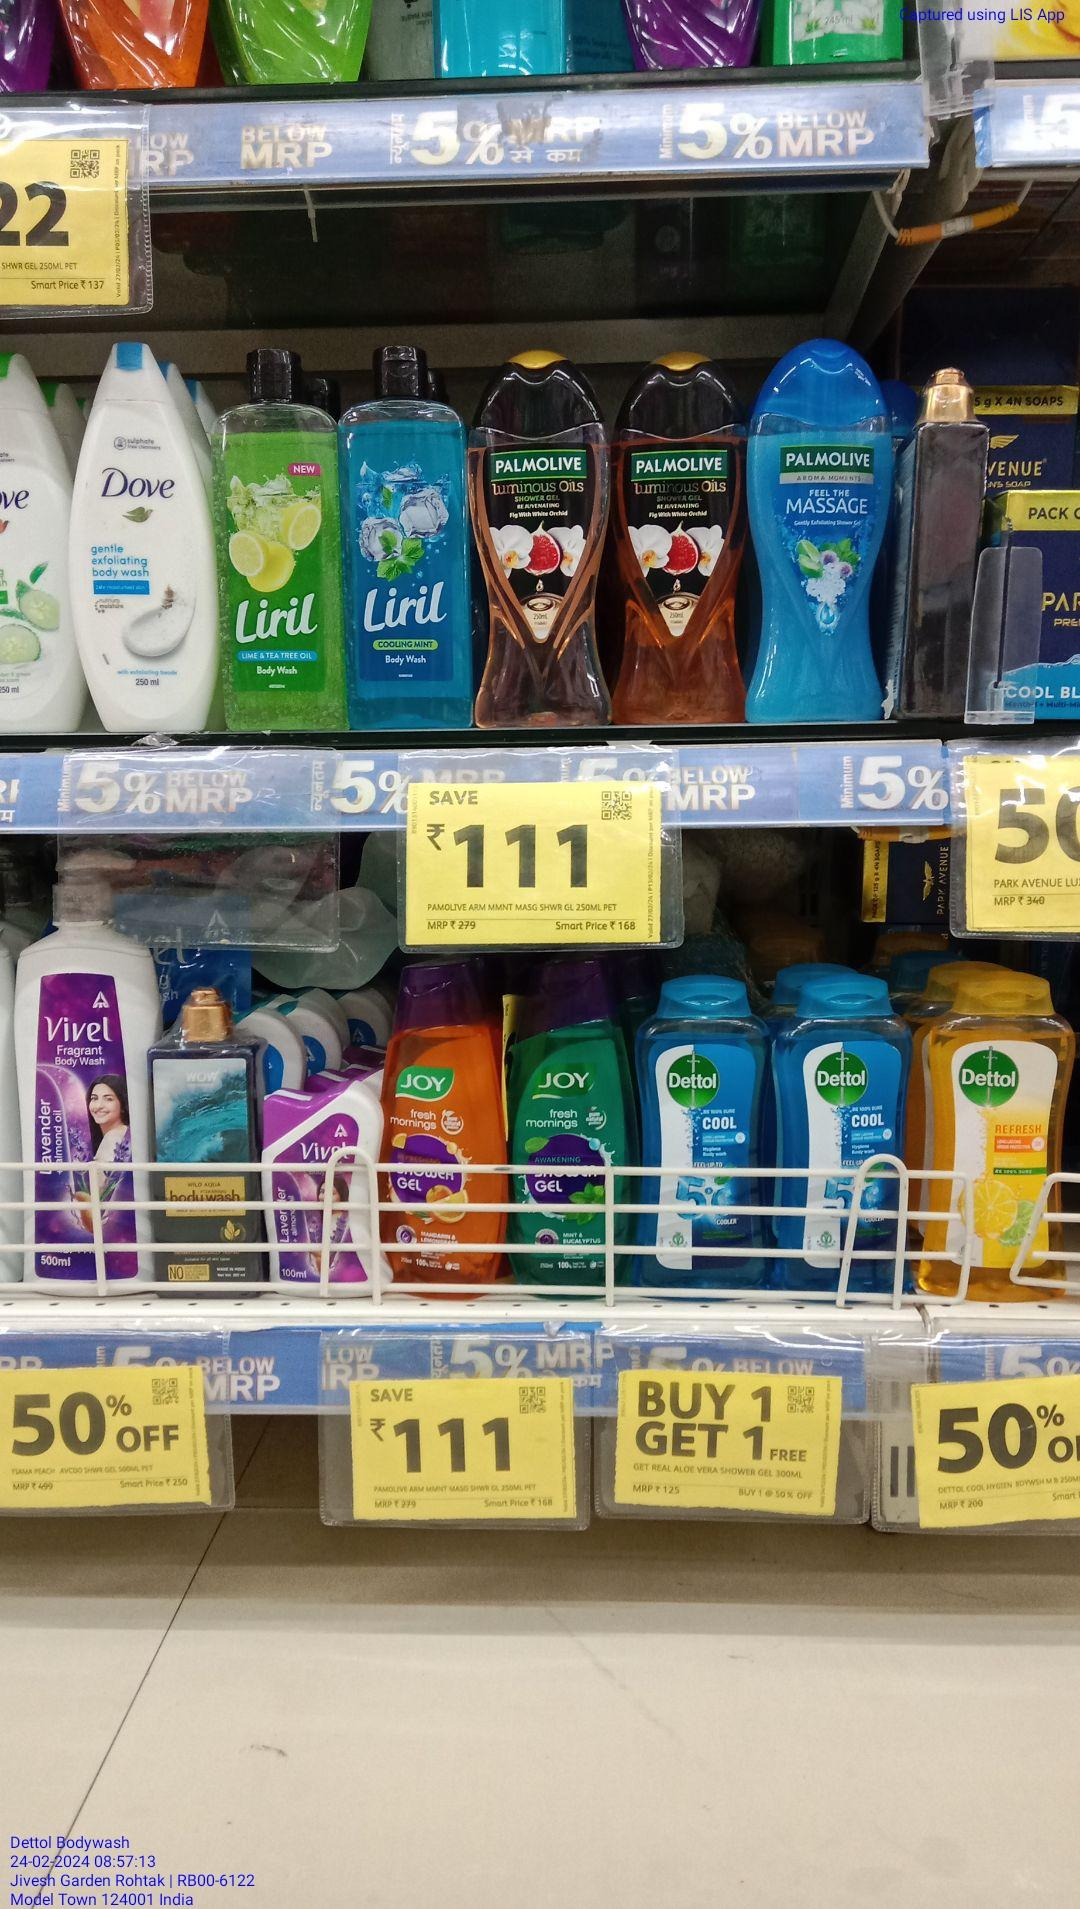Dettol_Bodywash_Cool: (772, 978, 914, 1290), (638, 979, 768, 1294)
Dettol_Bodywash_Refresh: (928, 975, 1076, 1302)
Dove_Gentle_Exfoliating_Body_Wash_250ML: (66, 340, 220, 738)
Joy_Shower_Gel_Mandarin_and_Lemongrass_250ML: (387, 970, 502, 1286)
Joy_Shower_Gel_Mint_and_Eucalyptus_250ML: (510, 975, 630, 1278)
Liril_Cooling_Mint_Body_Wash_250ML: (346, 347, 468, 730)
Liril_Lime_and_Tea_Tree_Oil_Body_Wash_250ML: (224, 346, 349, 736)
Palmolive_Aroma_Moments_Feel_The_Massage_Shower_Gel_250ML: (750, 347, 890, 726)
Palmolive_Luminous_Oils_With_White_Orchid_Shower_Gel_250ML: (476, 361, 612, 728), (616, 354, 746, 724)
